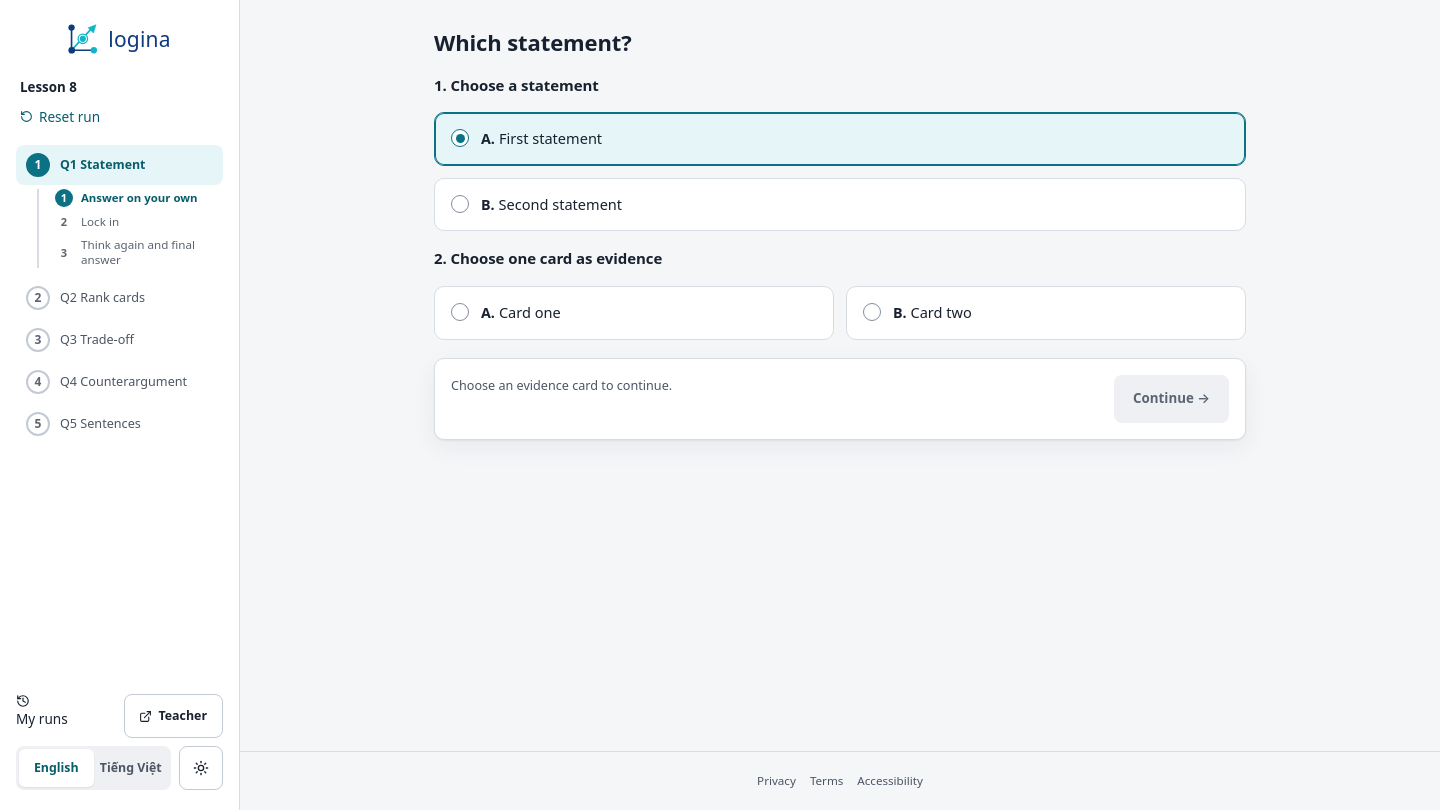
Test: Q1 flow › a failed save keeps Continue off and offers Try again
Click the radio button labelled "A.Card one" at (530, 312), box [434,286,834,340]
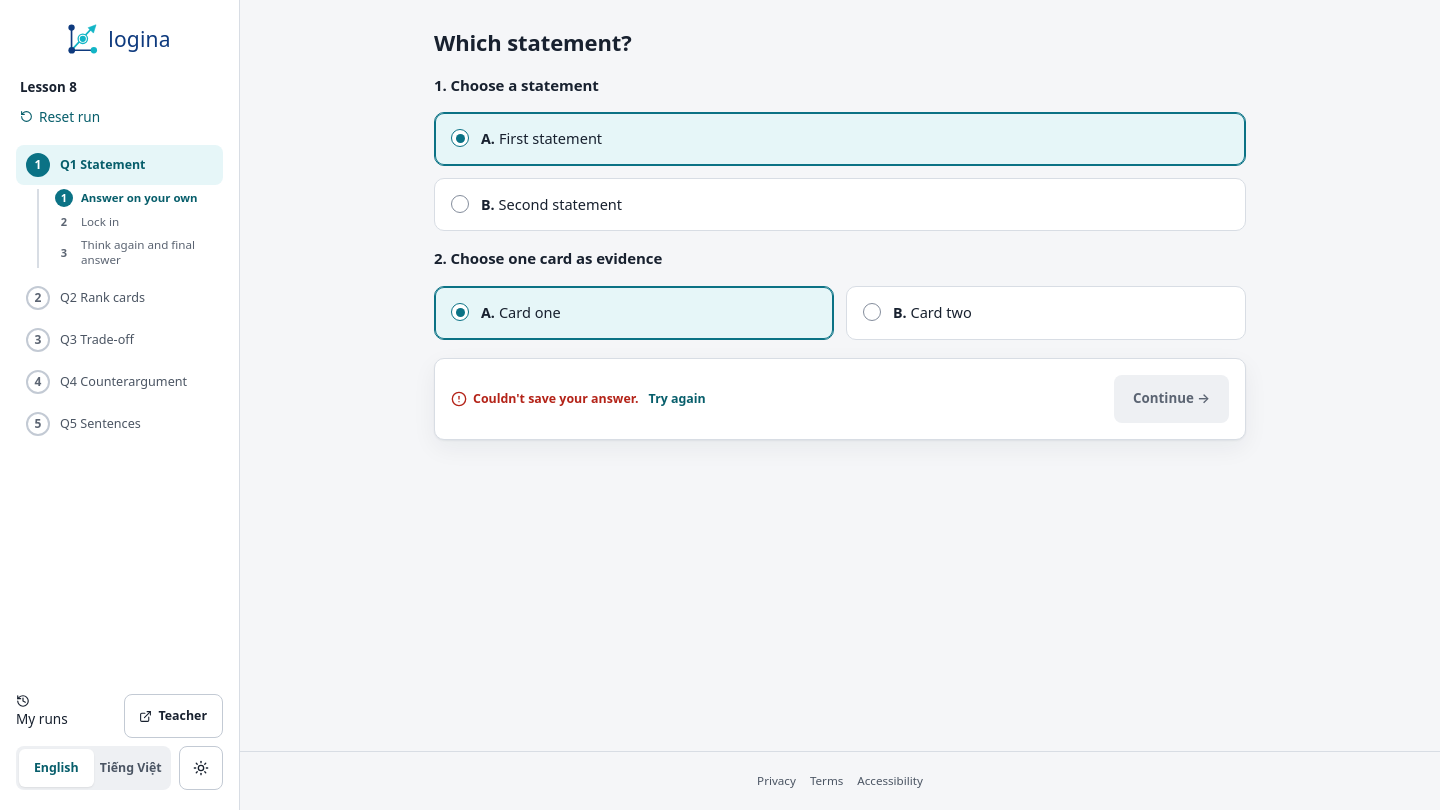
Expected: the button "Continue →" is disabled, [1114,375,1229,423]
Expected: the text "Couldn't save your answer." is shown, [451,389,639,408]
Click the button "Try again" at (677, 399), box [649,389,706,408]
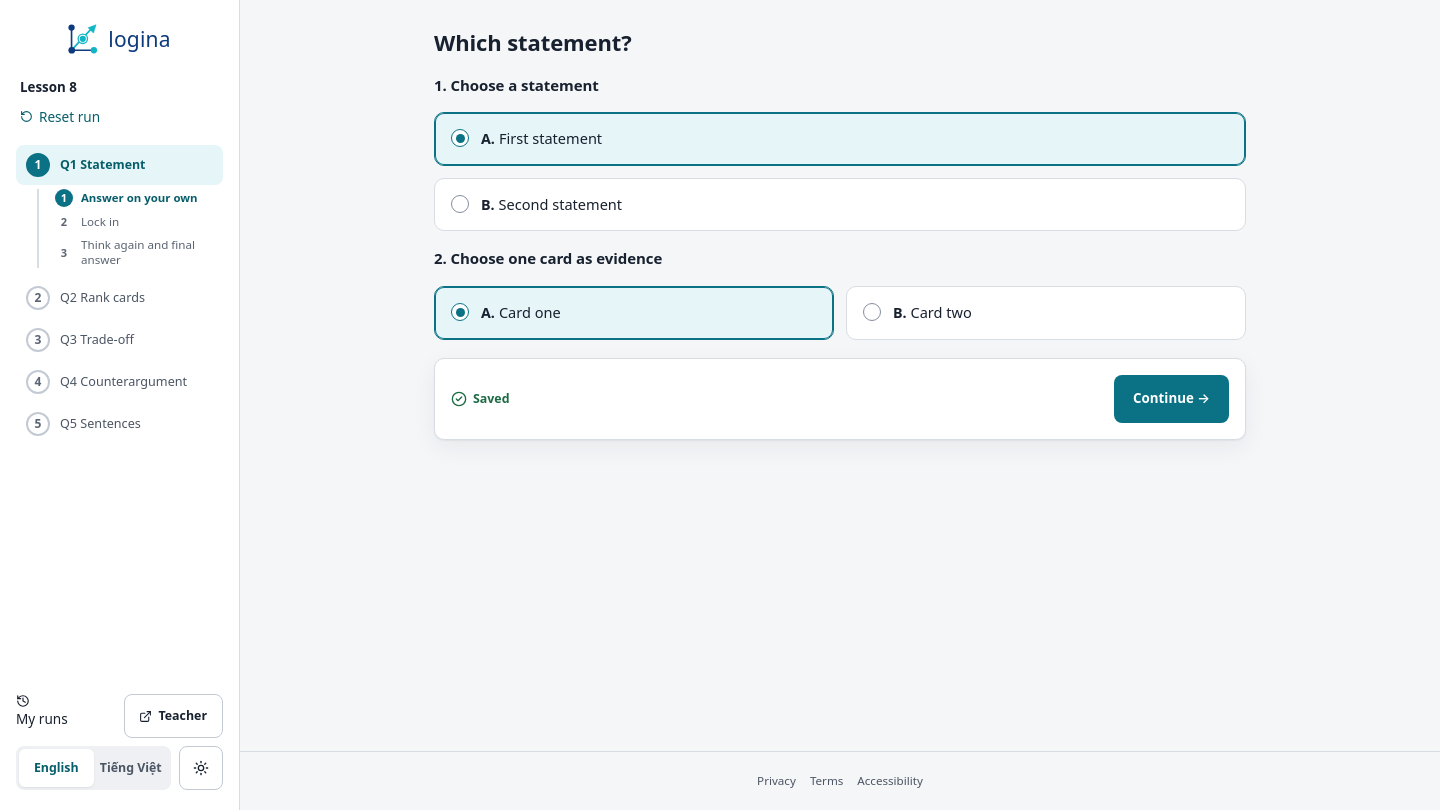
Expected: the button "Continue →" is enabled, [1114,375,1229,423]
